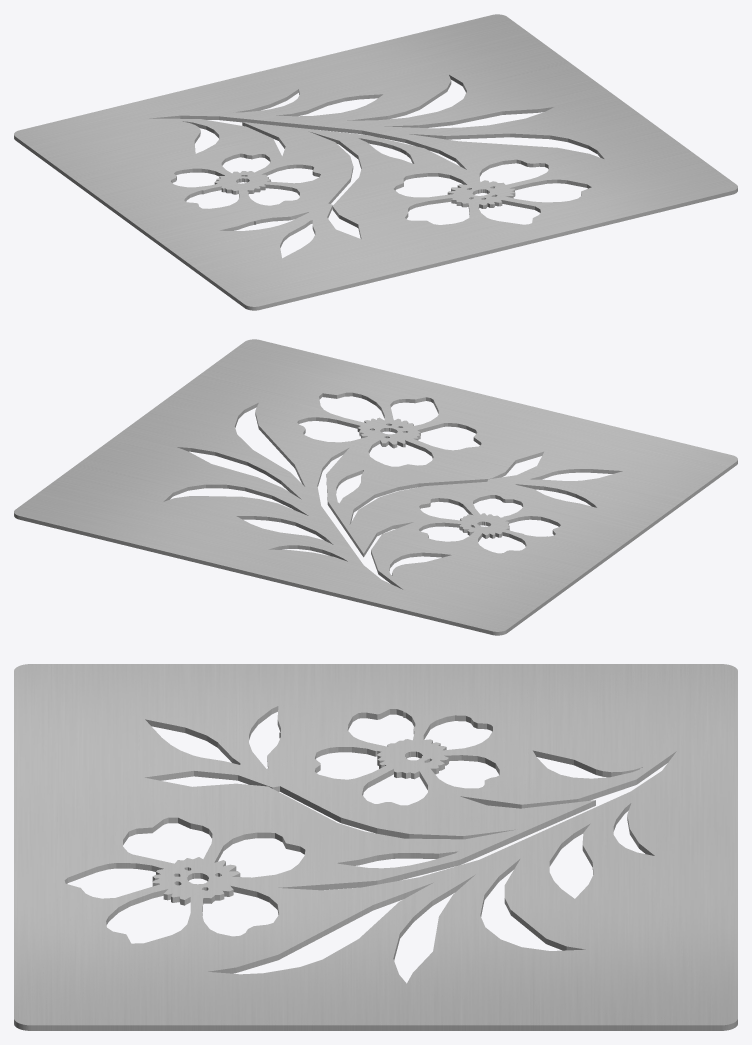
The model's file is floral_steel_stencil.glb.
3 renders of one model, top to bottom at view 1: azimuth 30°, elevation 25°; view 2: azimuth 150°, elevation 25°; view 3: azimuth 270°, elevation 25°, orthographic. The views are drawn at different scales.
Parts seen in each view (by area): view 1: world; view 2: world; view 3: world.
Part boxes in pixels (bbox=[...]): world: bbox=[14, 14, 737, 310]; world: bbox=[14, 339, 737, 635]; world: bbox=[14, 664, 737, 1030].
Size of the model in its own units: 0.3036 by 0.0022 by 0.2571.
1 material, 1 textured.
